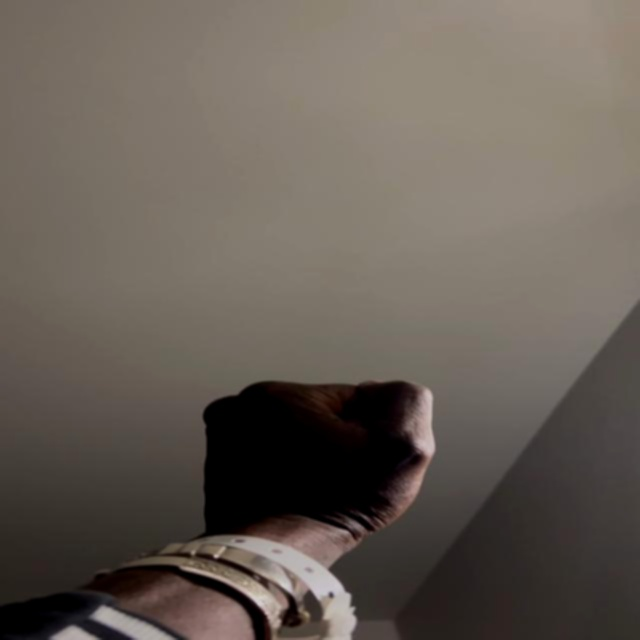Rock: (203, 376, 437, 550)
